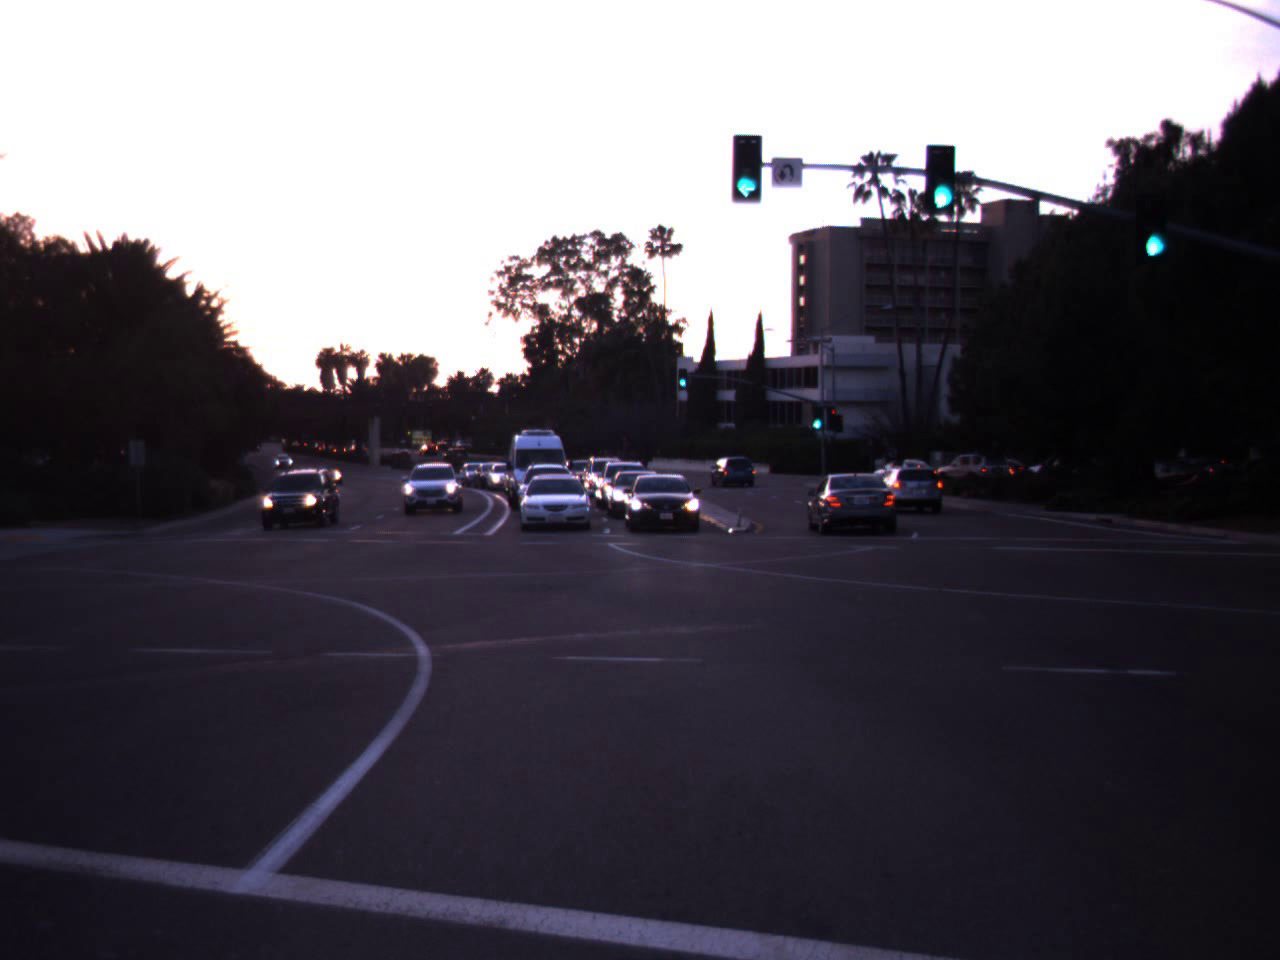go: (713, 104, 779, 209), (918, 124, 969, 214), (1133, 177, 1178, 262), (802, 379, 833, 434), (673, 350, 691, 390)
